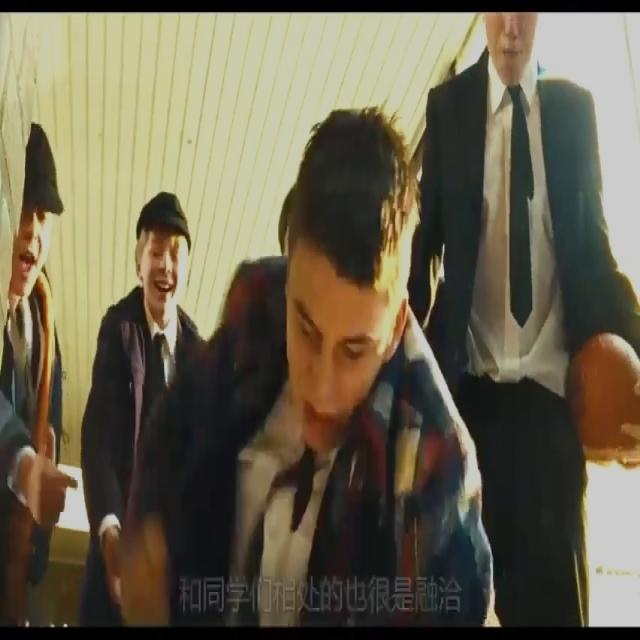non-fight: (121, 104, 502, 638), (406, 0, 640, 640), (74, 188, 192, 640)
